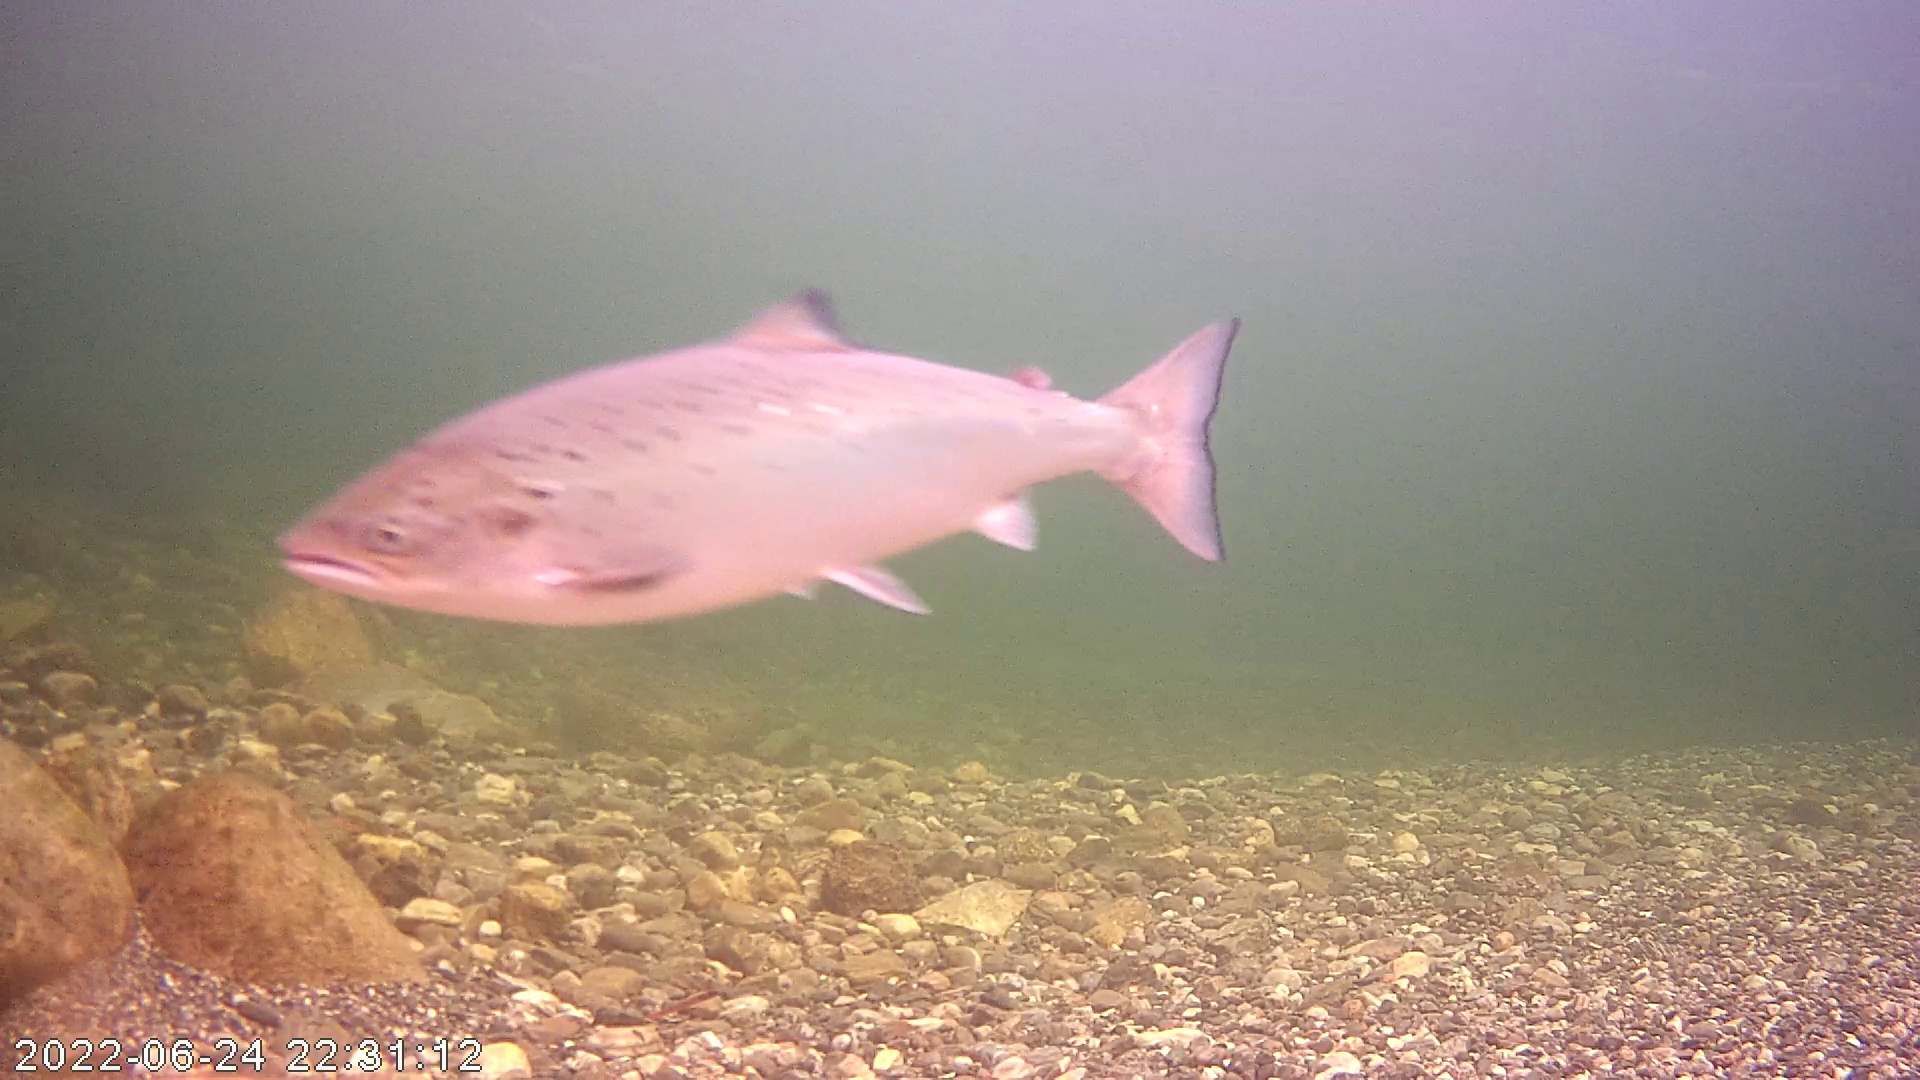salmon: (272, 286, 1240, 632)
